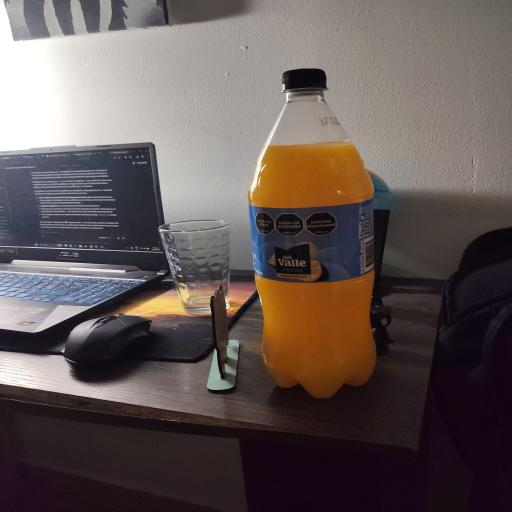Jugo del valle: (249, 69, 375, 397)
